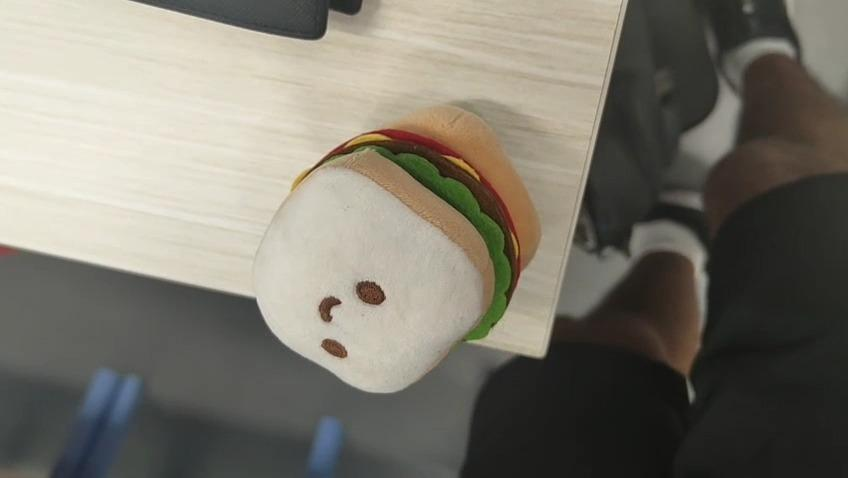objects: (252, 110, 549, 400)
